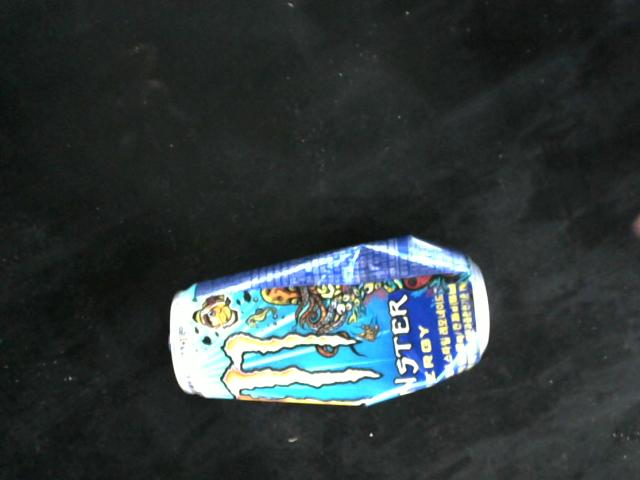can: (168, 231, 494, 407)
